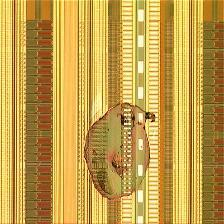PARTICLE: (83, 102, 158, 201)
